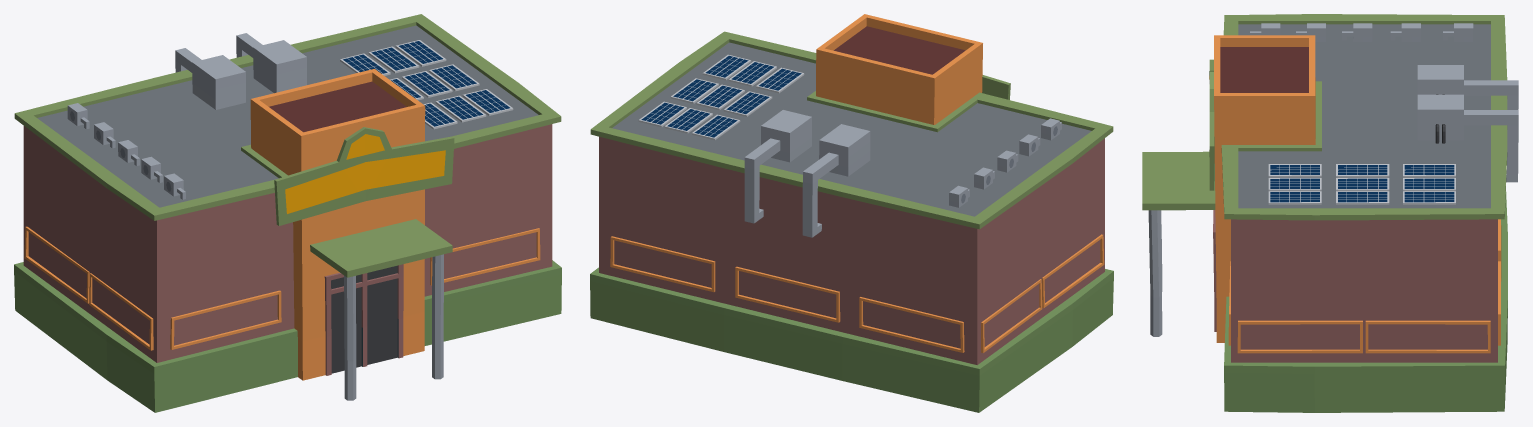
Rendered from Building_Supermarket.fbx.
The picture shows the model from 3 angles, left to right: view 1: azimuth 30°, elevation 25°; view 2: azimuth 150°, elevation 25°; view 3: azimuth 270°, elevation 25°; orthographic projection. The views are drawn at different scales.
Visible parts, largest first — view 1: Building_Supermarket; view 2: Building_Supermarket; view 3: Building_Supermarket.
Boxes of the visible parts, left/top/right/bottom form: Building_Supermarket: left=14, top=14, right=561, bottom=412; Building_Supermarket: left=590, top=14, right=1113, bottom=412; Building_Supermarket: left=1142, top=14, right=1518, bottom=412.
Bounding box in the file's own units: 2273 × 1297 × 1793.
